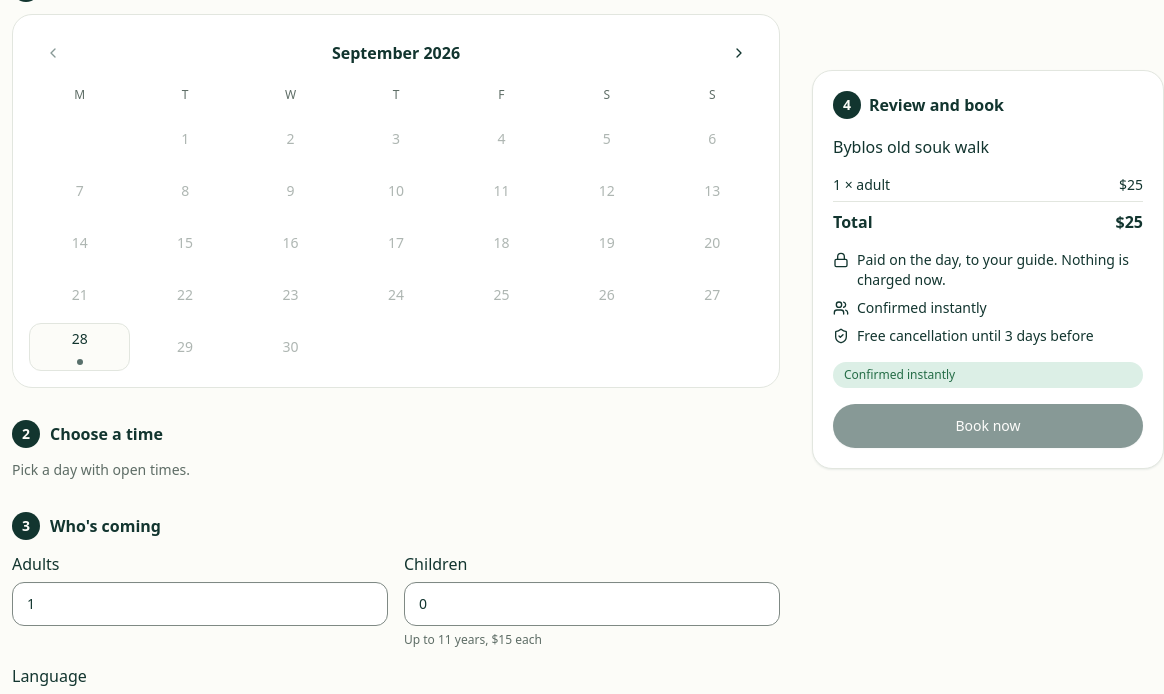
Test: booking a tour › builds the total from the published prices and books
Click the button named "from $25": (80, 347) top-left (29, 323), bottom-right (130, 371)
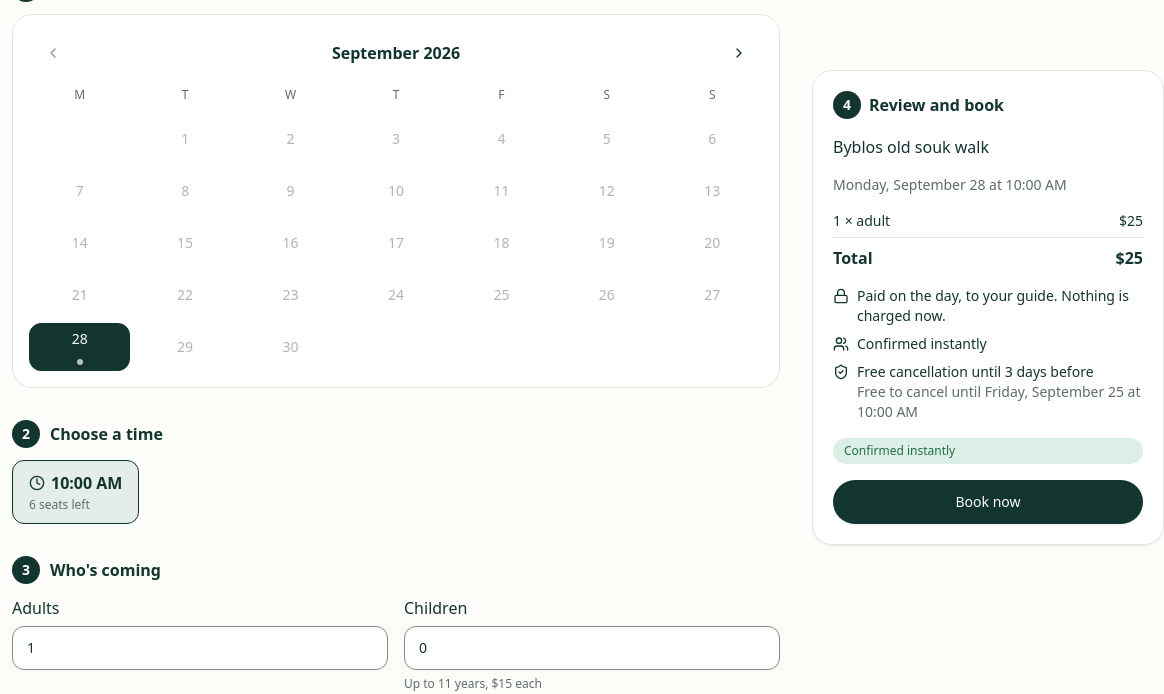
Replace the text in the number field labelled "Adults" with "2": (200, 648) top-left (12, 626), bottom-right (388, 670)
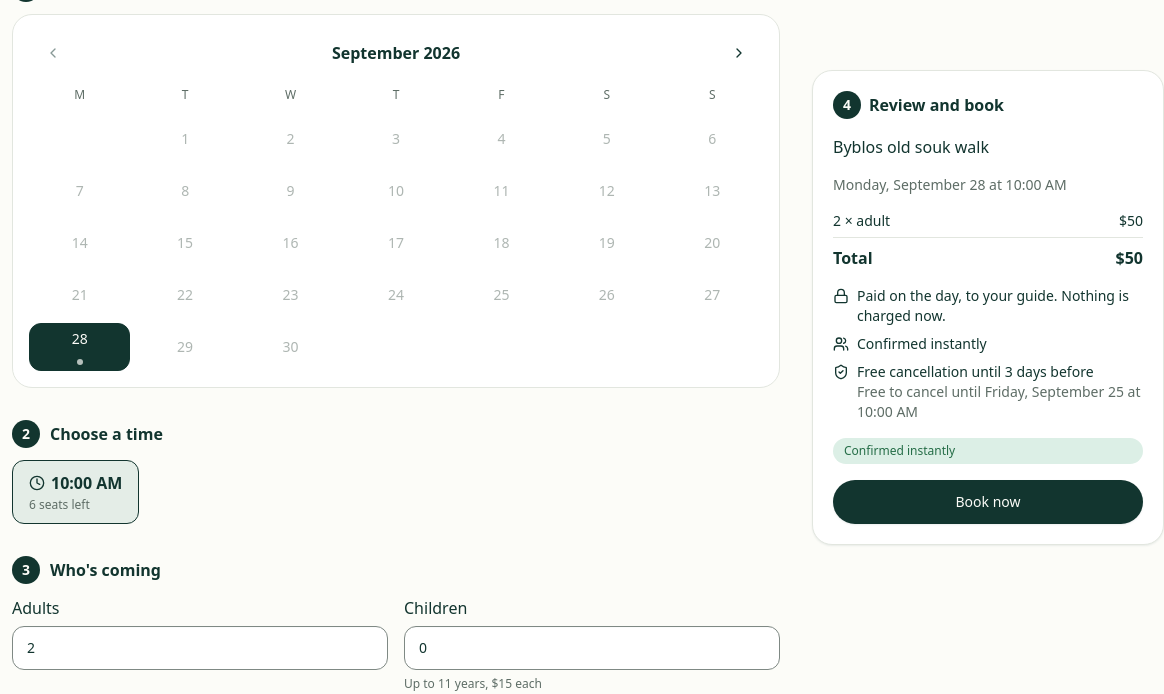
Replace the text in the number field labelled "Children" with "1": (592, 648) top-left (404, 626), bottom-right (780, 670)
(page scrolled)
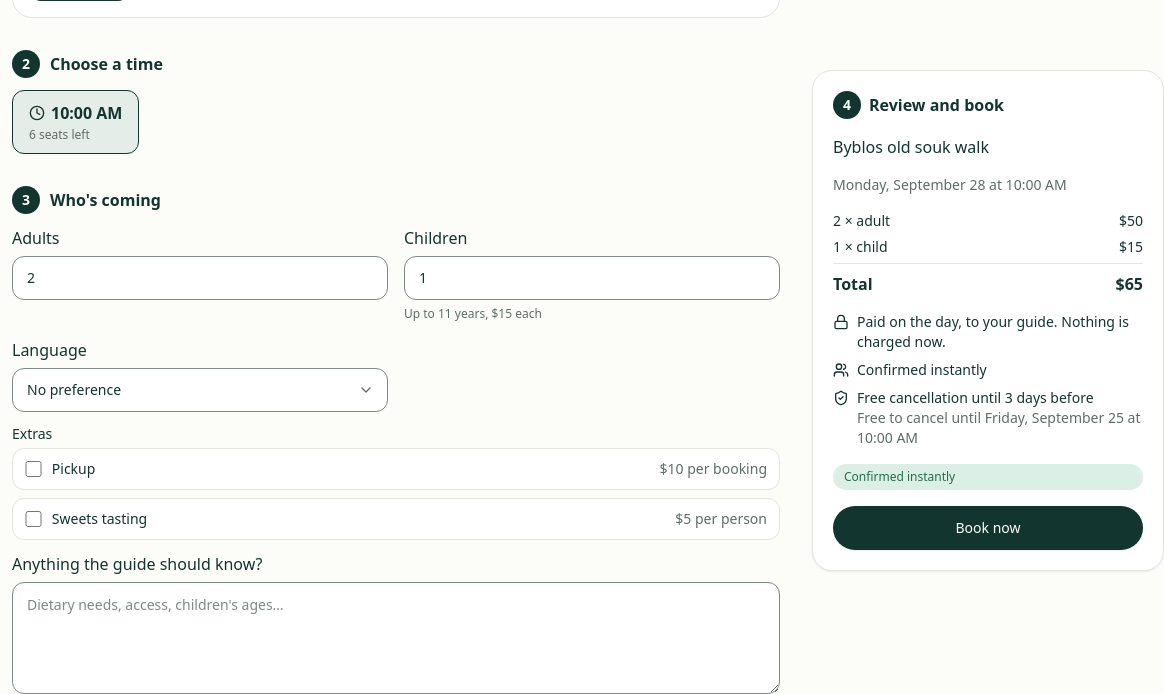
Click the checkbox labelled "Pickup $10 per booking": (33, 469) top-left (25, 461), bottom-right (42, 477)
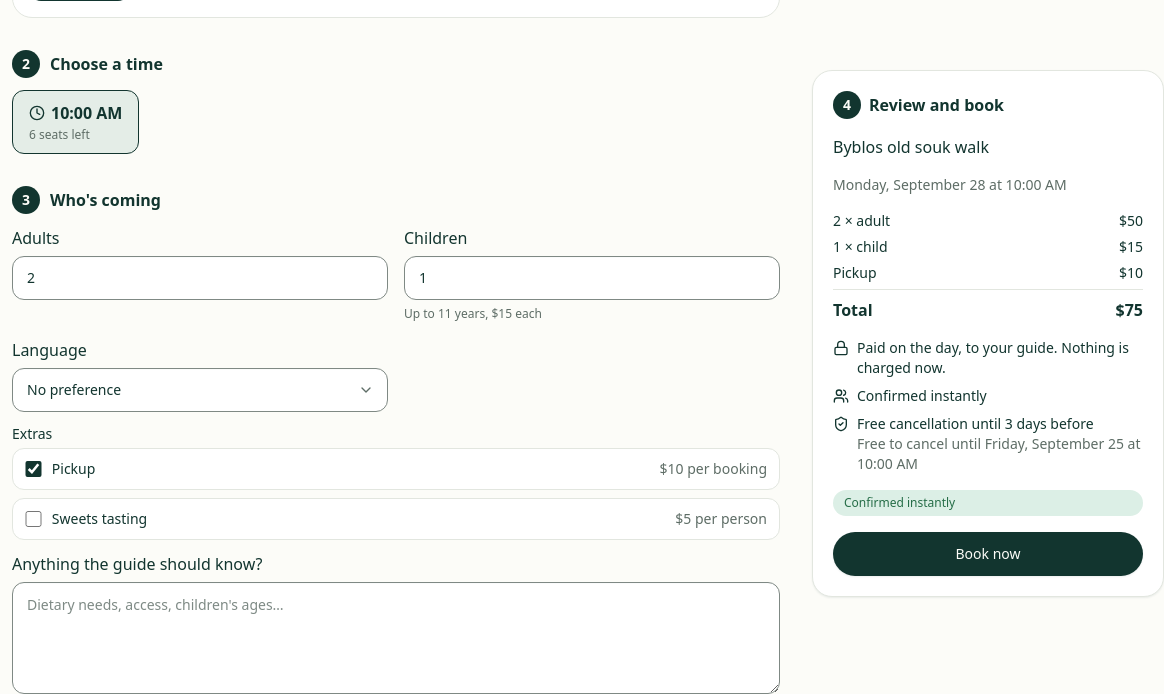
Click the checkbox labelled "Sweets tasting $5 per person": (33, 519) top-left (25, 511), bottom-right (42, 527)
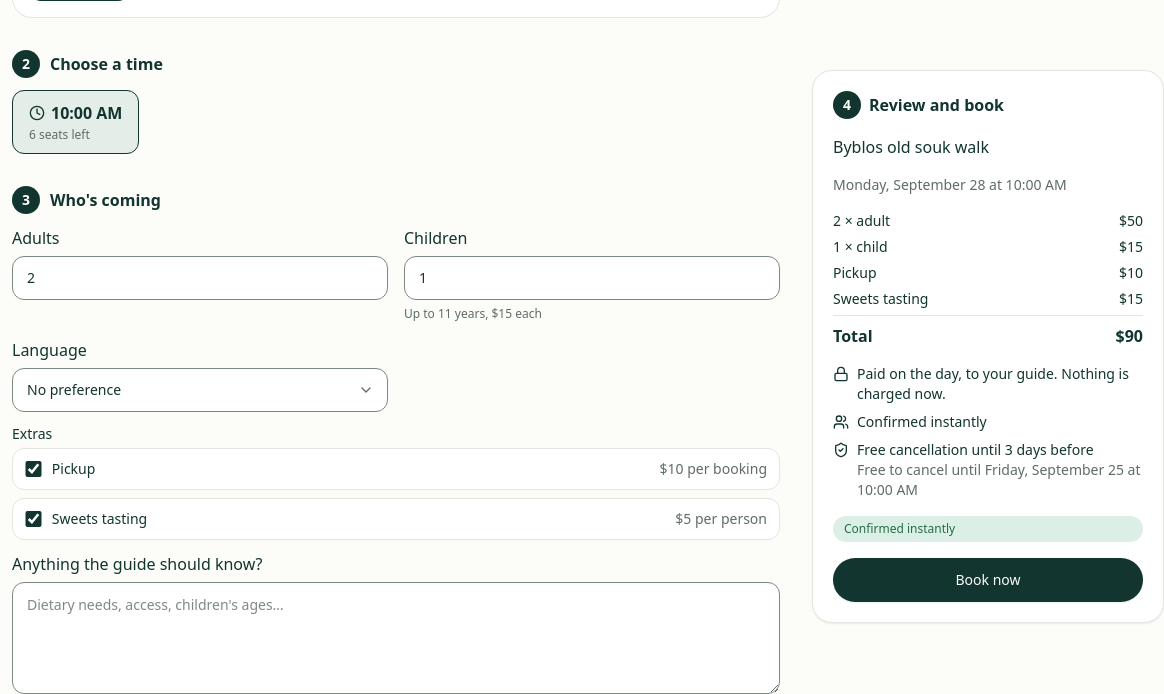
Expected: the text "Free cancellation until 3 days before" is shown, top-left (857, 440), bottom-right (1094, 459)
Now the text with test id "booking-total" reads "$90", box top-left (1116, 325), bottom-right (1143, 347)
Click the button "Book now": (988, 580) top-left (833, 558), bottom-right (1143, 602)
(page scrolled)
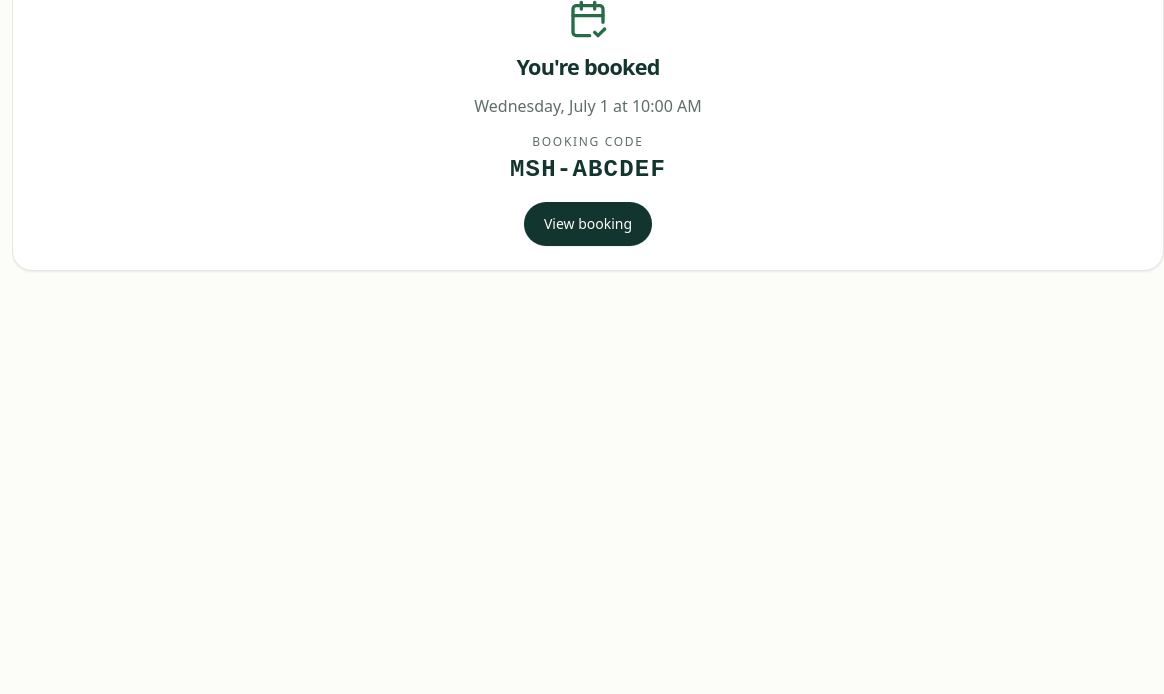
Now the text with test id "booking-code" reads "MSH-ABCDEF", box top-left (510, 156), bottom-right (666, 183)
